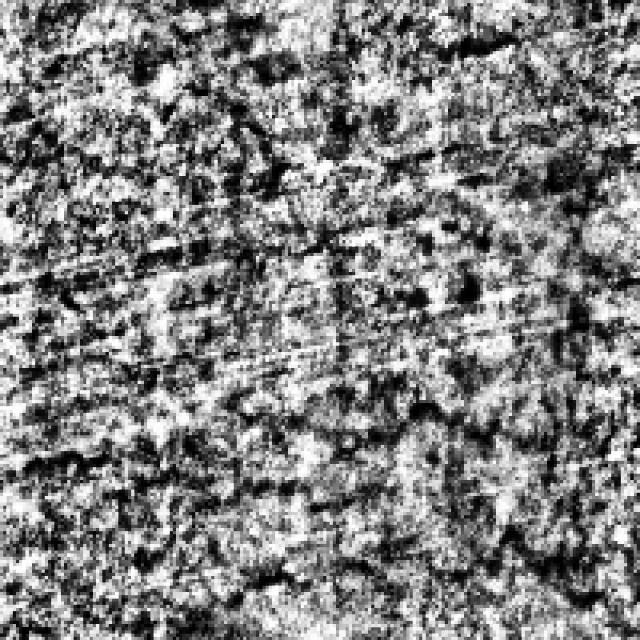Pitted_Surface: (12, 380, 548, 618), (538, 154, 636, 634)
